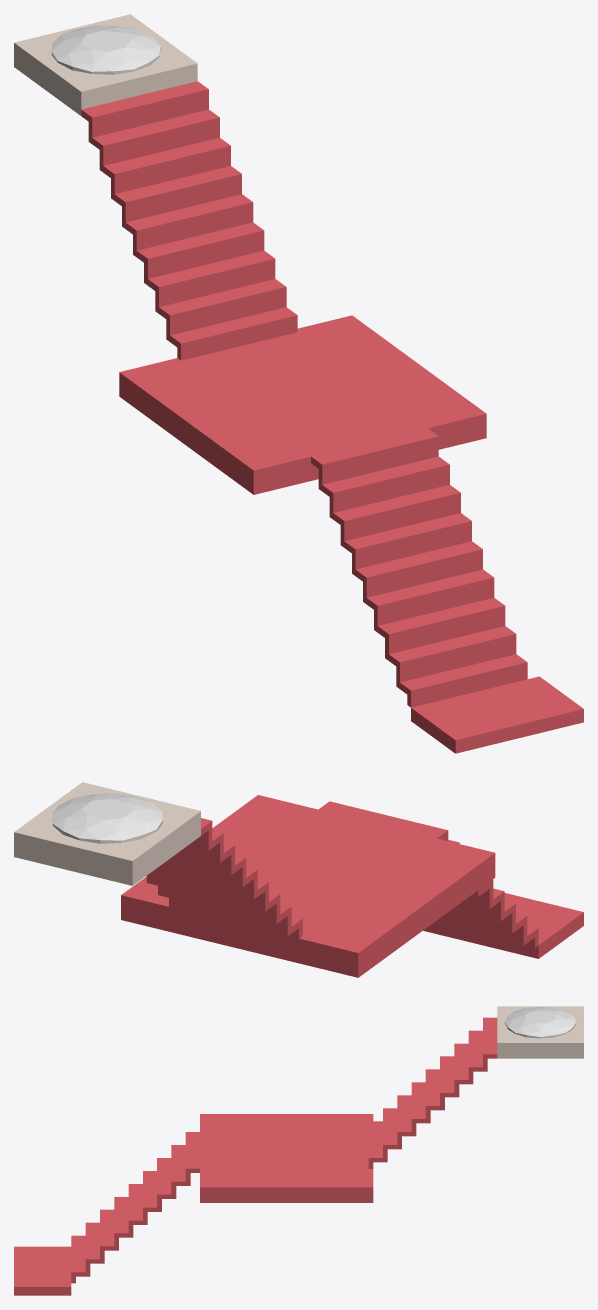
File: goal1.fbx
The picture shows the model from 3 angles, top to bottom: view 1: azimuth 30°, elevation 25°; view 2: azimuth 150°, elevation 25°; view 3: azimuth 270°, elevation 25°; orthographic projection. The views are drawn at different scales.
Visible parts, largest first — view 1: Goal, Diamond; view 2: Goal, Diamond; view 3: Goal, Diamond.
Boxes of the visible parts, x1,y1,x2,y2 form: Goal: (14, 14, 583, 753); Diamond: (51, 25, 160, 74); Goal: (14, 782, 583, 977); Diamond: (52, 793, 162, 843); Goal: (14, 1006, 583, 1295); Diamond: (504, 1007, 576, 1038).
Bounding box in the file's own units: 725 × 1187 × 2386.
